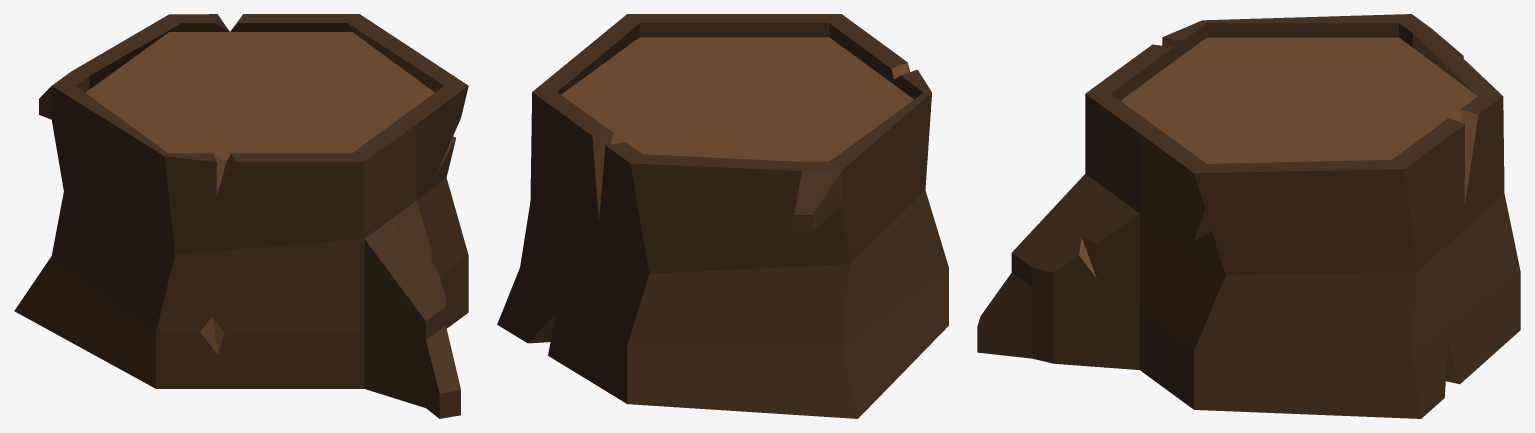
File: Tree_Trunk_3_Dark_Brown.fbx
3 views of the same model, side by side, from view 1: azimuth 30°, elevation 25°; view 2: azimuth 150°, elevation 25°; view 3: azimuth 270°, elevation 25° (orthographic). The views are drawn at different scales.
Visible parts, largest first — view 1: Tree_Trunk_3_Dark_Brown_Part_1, Tree_Trunk_3_Dark_Brown_Part_2; view 2: Tree_Trunk_3_Dark_Brown_Part_1, Tree_Trunk_3_Dark_Brown_Part_2; view 3: Tree_Trunk_3_Dark_Brown_Part_1, Tree_Trunk_3_Dark_Brown_Part_2.
Boxes of the visible parts, x1,y1,x2,y2 form: Tree_Trunk_3_Dark_Brown_Part_1: (14,14,468,418); Tree_Trunk_3_Dark_Brown_Part_2: (85,14,455,354); Tree_Trunk_3_Dark_Brown_Part_1: (497,14,948,418); Tree_Trunk_3_Dark_Brown_Part_2: (528,37,913,343); Tree_Trunk_3_Dark_Brown_Part_1: (977,14,1520,418); Tree_Trunk_3_Dark_Brown_Part_2: (1079,37,1478,384).
Bounding box in the file's own units: 198 × 120 × 250.
